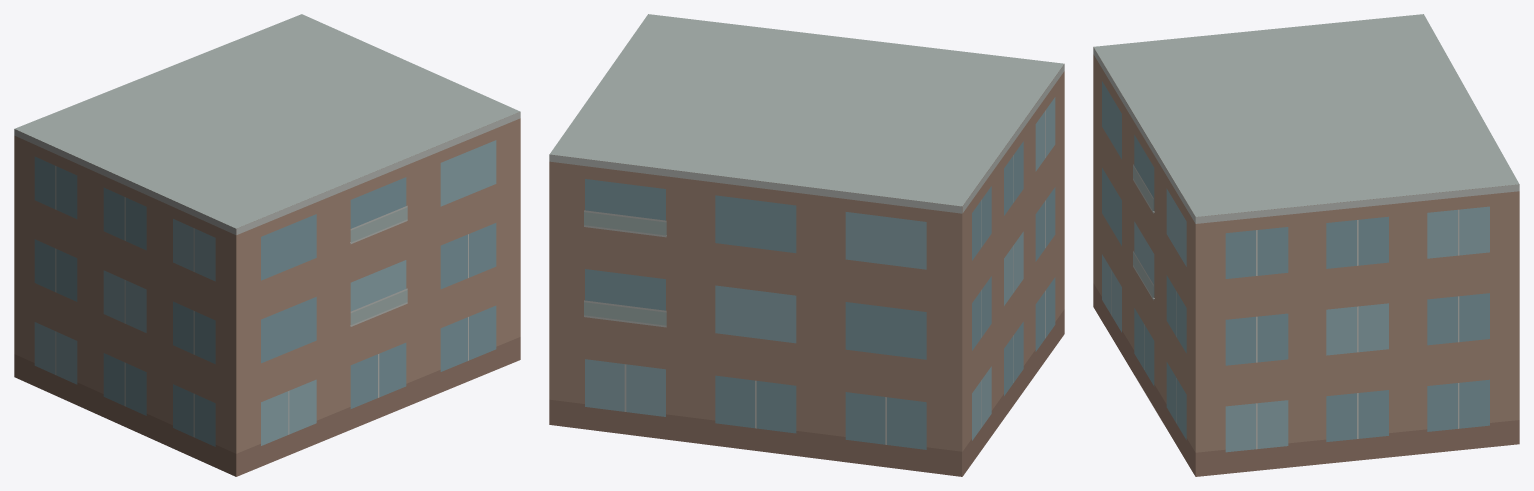
File: survey-upis-32913990.glb
The picture shows the model from 3 angles, left to right: view 1: azimuth 30°, elevation 25°; view 2: azimuth 150°, elevation 25°; view 3: azimuth 270°, elevation 25°; orthographic projection. The views are drawn at different scales.
Parts seen in each view (by area): view 1: survey-upis-32913990.tmp; view 2: survey-upis-32913990.tmp; view 3: survey-upis-32913990.tmp.
Part boxes in pixels (left/top/right/bottom): survey-upis-32913990.tmp: left=14, top=14, right=520, bottom=476; survey-upis-32913990.tmp: left=549, top=14, right=1064, bottom=476; survey-upis-32913990.tmp: left=1093, top=14, right=1519, bottom=476.
Size of the model in its own units: 15.34 by 9.15 by 13.62.
